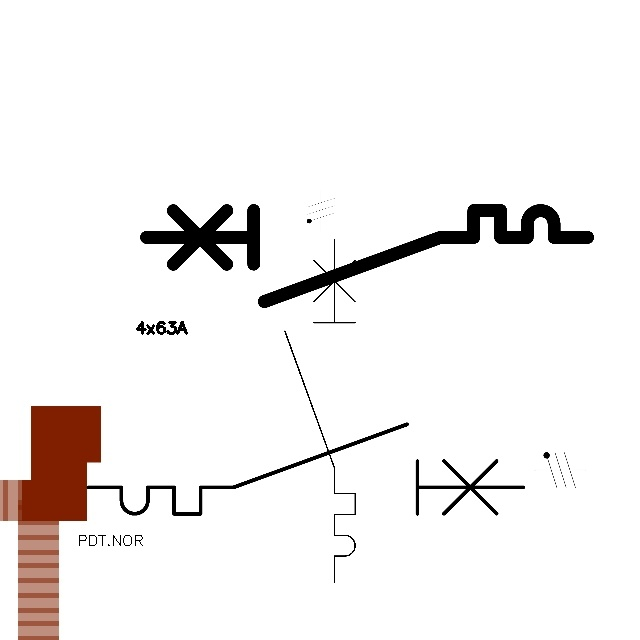interruptor_termomagnetico: (135, 199, 599, 312), (77, 413, 534, 525), (276, 230, 364, 590)
